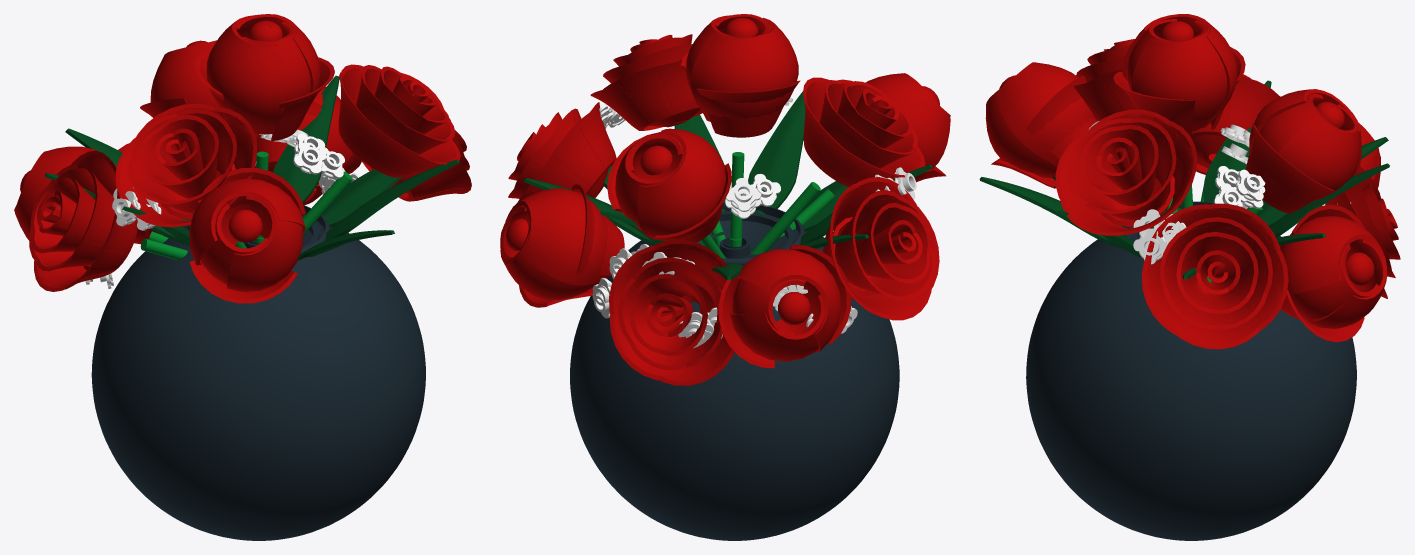
The model's file is vaseroses.glb.
3 renders of one model, left to right at view 1: azimuth 30°, elevation 25°; view 2: azimuth 150°, elevation 25°; view 3: azimuth 270°, elevation 25°, orthographic.
Parts seen in each view (by area): view 1: p0, p23, p5, p2, p11, p8, p17, p33, p29, p26, p14, p34 (+7 smaller); view 2: p0, p20, p29, p11, p2, p26, p17, p5, p8, p14, p23, p36 (+10 smaller); view 3: p0, p14, p8, p17, p2, p26, p23, p11, p5, p20, p32, p36 (+5 smaller).
Part boxes in pixels (x1,y1,x2,y2): p0: [91, 205, 425, 540]; p23: [189, 168, 305, 303]; p5: [115, 103, 256, 227]; p2: [195, 14, 334, 140]; p11: [29, 150, 137, 291]; p8: [338, 64, 460, 177]; p17: [140, 40, 258, 142]; p33: [273, 75, 339, 203]; p29: [14, 146, 116, 240]; p26: [255, 86, 361, 205]; p14: [360, 118, 471, 201]; p34: [316, 169, 402, 227]; p0: [570, 203, 899, 540]; p20: [609, 239, 734, 385]; p29: [718, 244, 851, 368]; p11: [823, 177, 939, 320]; p2: [680, 14, 800, 137]; p26: [500, 184, 624, 307]; p17: [607, 128, 731, 242]; p5: [803, 77, 925, 186]; p8: [590, 34, 702, 130]; p14: [508, 102, 616, 202]; p23: [865, 73, 950, 182]; p36: [748, 91, 805, 214]; p0: [1026, 201, 1356, 540]; p14: [1141, 203, 1288, 349]; p8: [1055, 109, 1197, 235]; p17: [1245, 89, 1361, 213]; p2: [1113, 14, 1245, 137]; p26: [1280, 204, 1386, 342]; p23: [985, 62, 1097, 188]; p11: [1191, 74, 1280, 174]; p5: [1073, 39, 1136, 121]; p20: [1325, 183, 1400, 298]; p32: [1269, 163, 1389, 237]; p36: [979, 177, 1122, 248].
Bounding box in the file's own units: 15.75 × 18.06 × 14.01.
